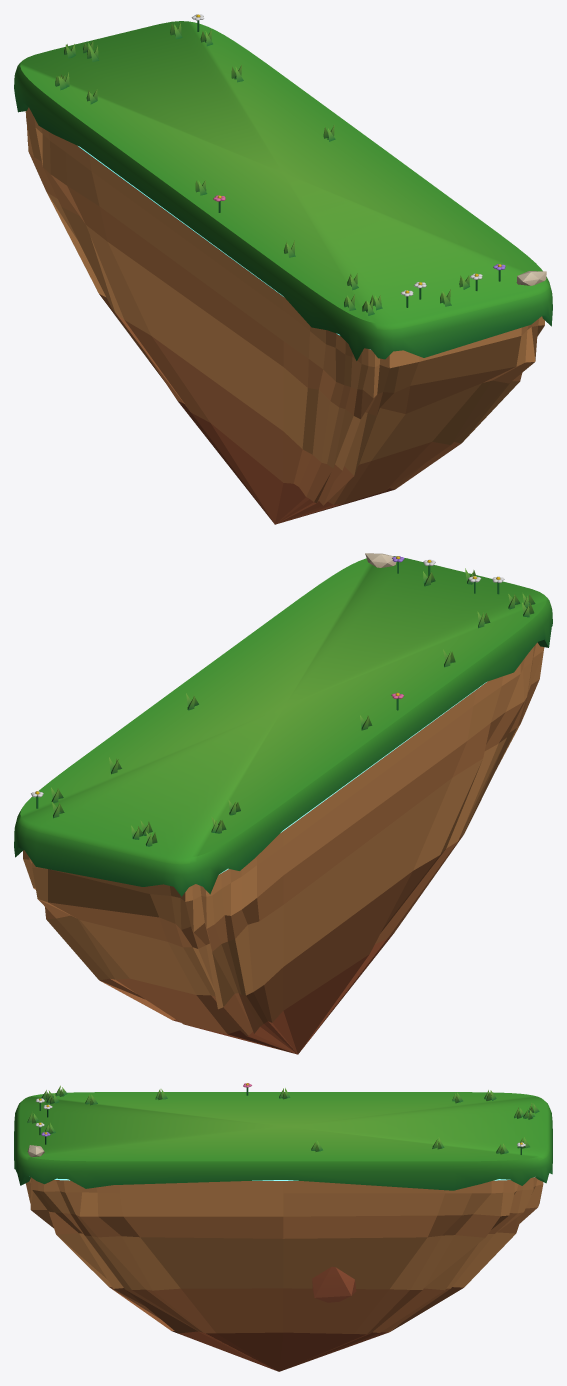
The model's file is PLAT_Isle_Strip.glb.
3 renders of one model, top to bottom at view 1: azimuth 30°, elevation 25°; view 2: azimuth 150°, elevation 25°; view 3: azimuth 270°, elevation 25°, orthographic. The views are drawn at different scales.
Parts seen in each view (by area): view 1: Ground; view 2: Ground; view 3: Ground.
Boxes of the visible parts, x1,y1,x2,y2 form: Ground: [14, 14, 552, 524]; Ground: [14, 553, 552, 1054]; Ground: [14, 1083, 552, 1371].
Size of the model in its own units: 2.56 by 4.38 by 8.19.
